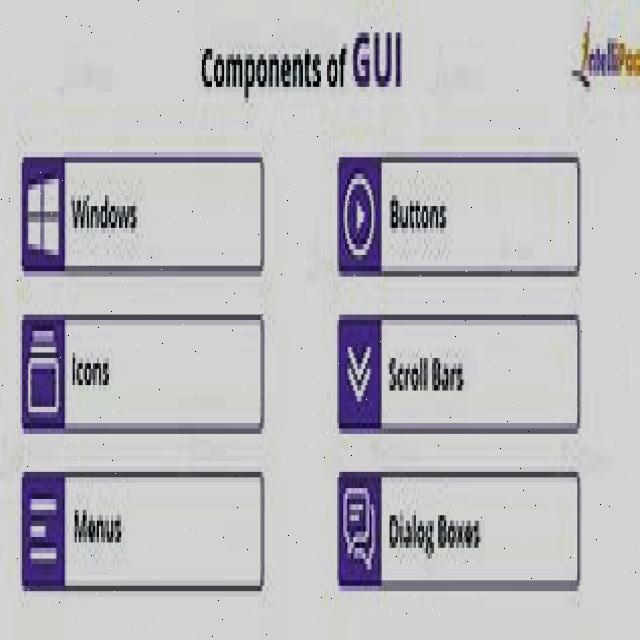button: (17, 307, 266, 439), (335, 309, 582, 437), (336, 150, 583, 278), (336, 464, 582, 592), (19, 468, 266, 593), (21, 150, 266, 276)
icon: (565, 0, 640, 92)
label: (193, 12, 410, 101)
